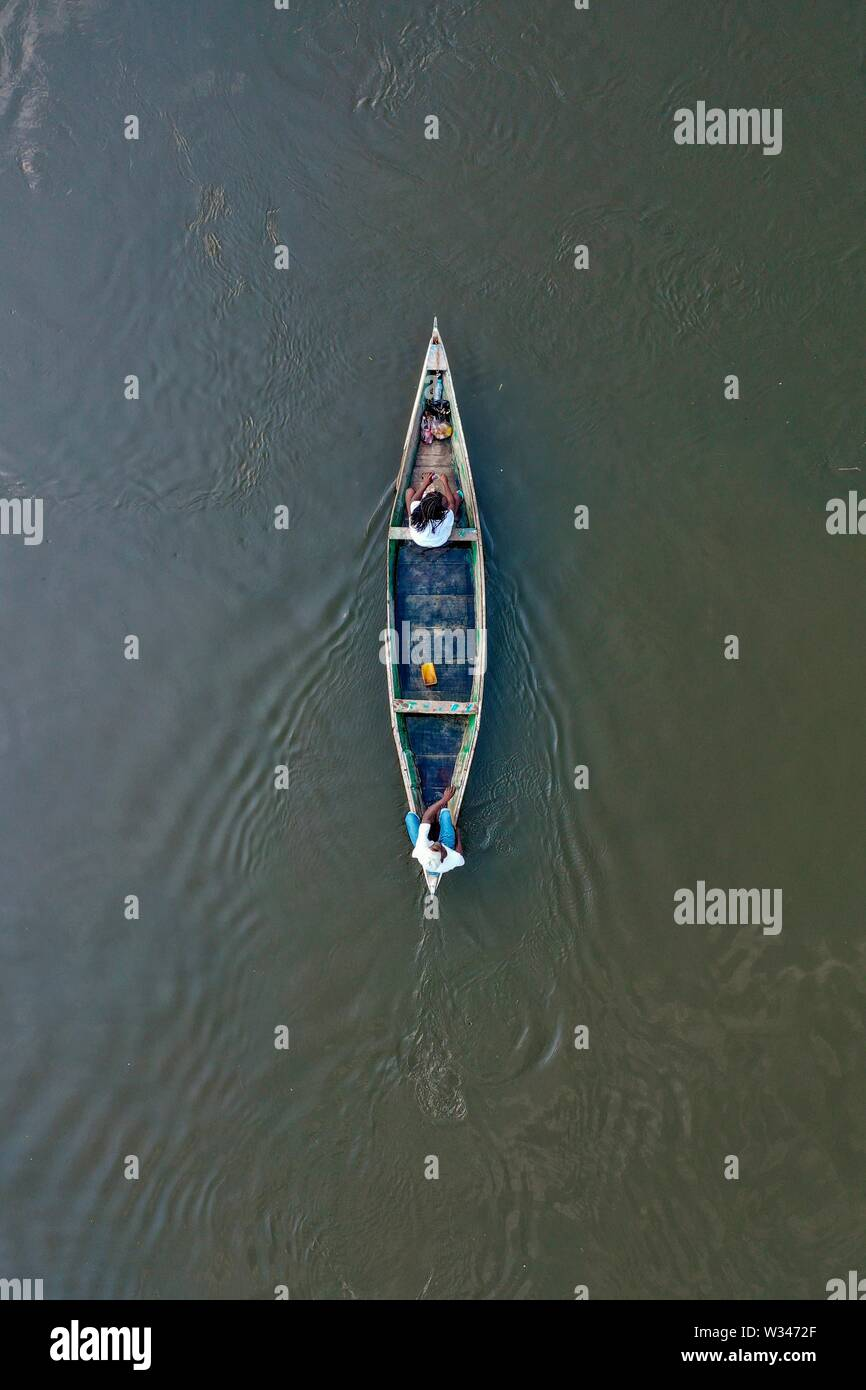kayaker: (373, 311, 492, 906)
